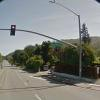Traffic light: (5, 22, 23, 39)
